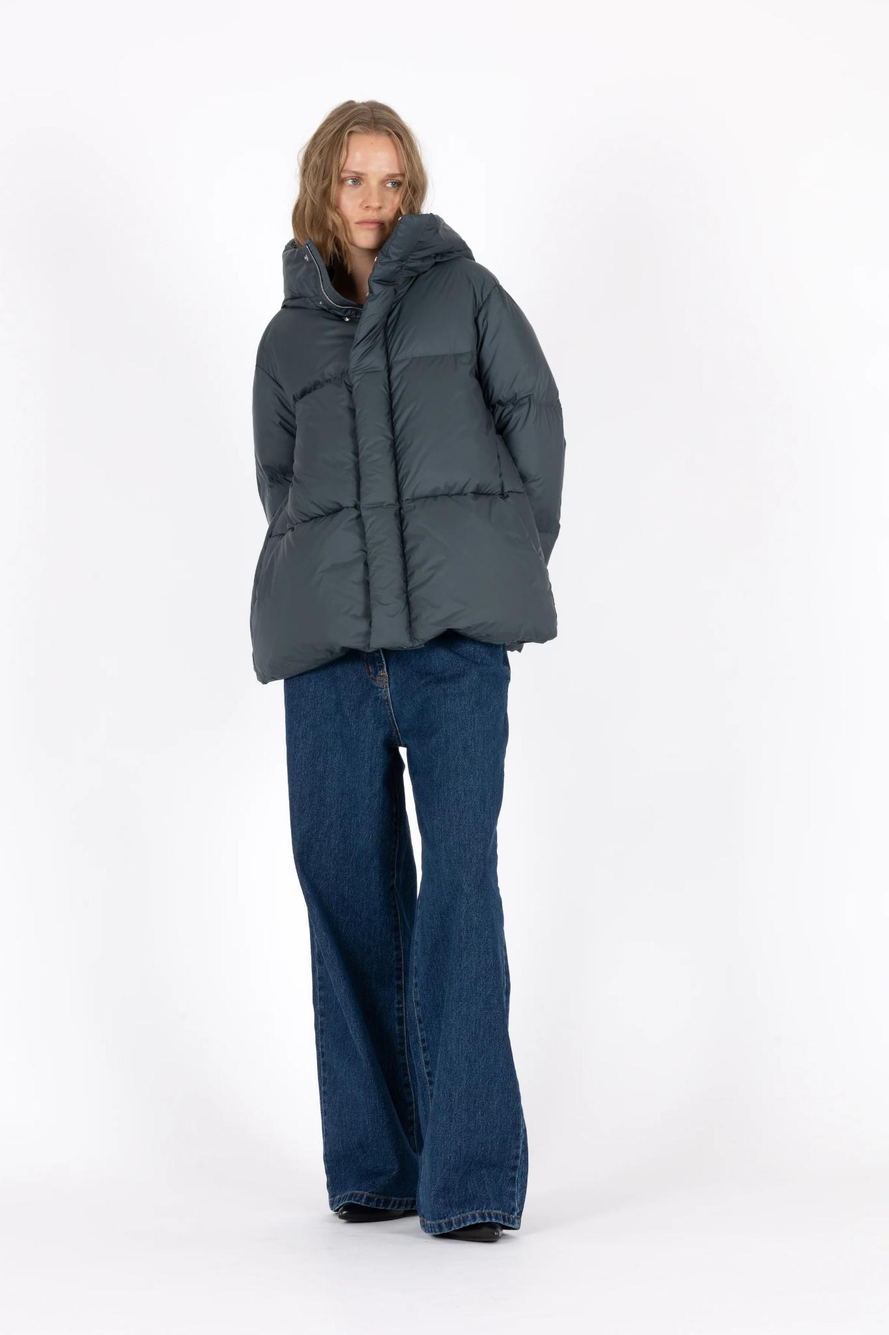coat: (236, 210, 574, 693)
trousers: (276, 622, 539, 1230)
